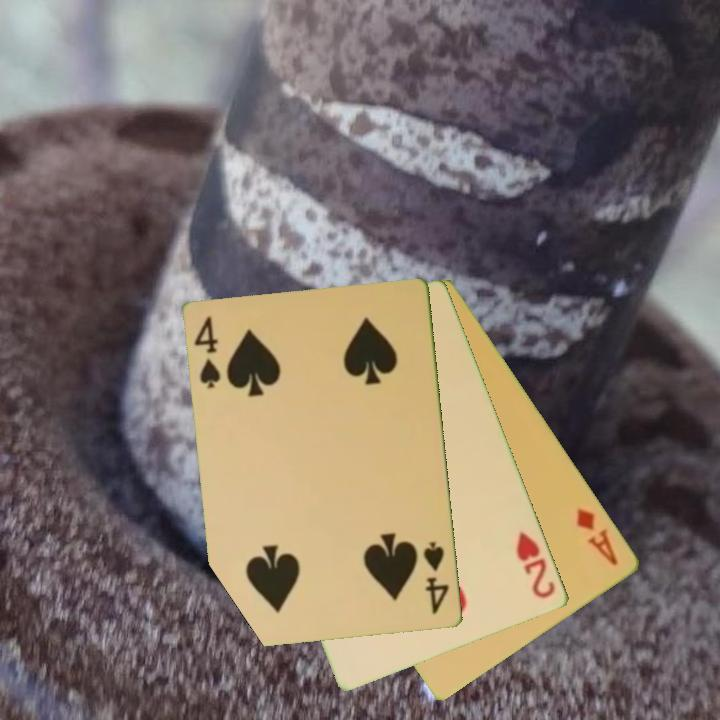2h: (513, 528, 559, 602)
4s: (191, 313, 224, 392), (420, 538, 452, 617)
Ad: (573, 504, 622, 569)
